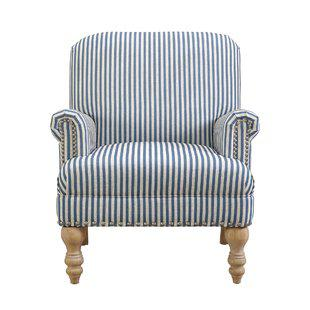chair: (49, 26, 275, 296)
